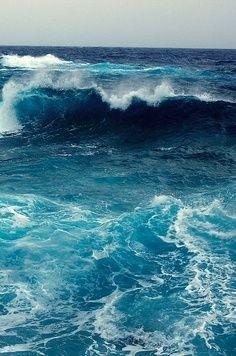sea_river: (3, 53, 235, 346)
